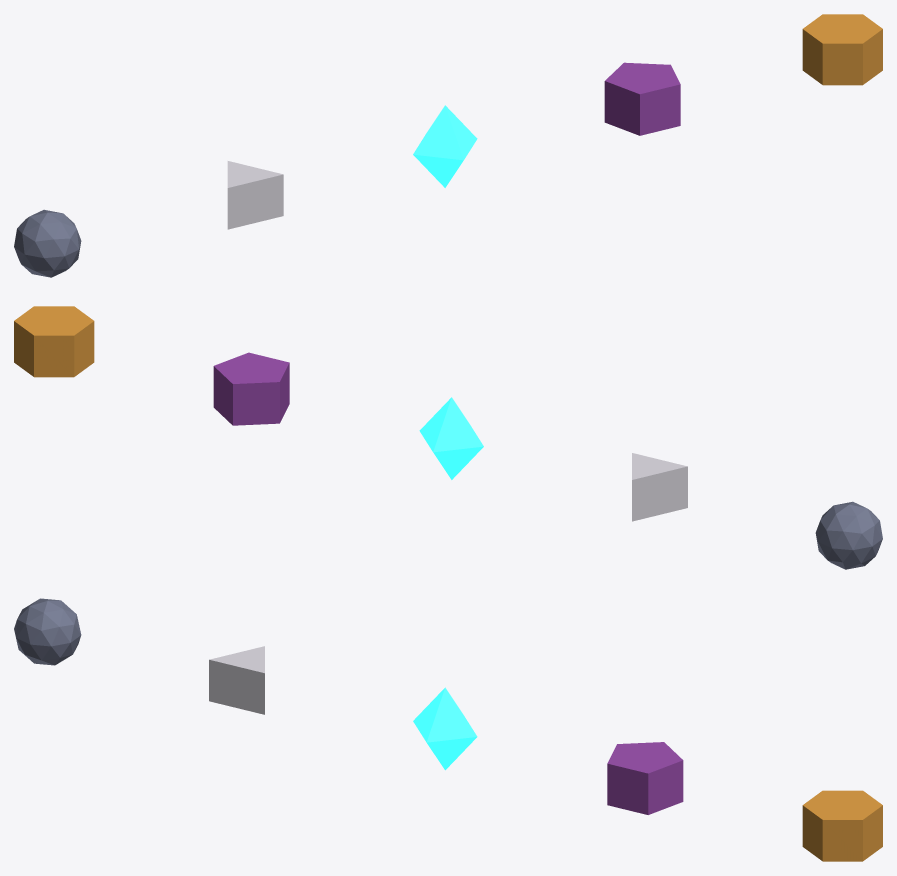
File: equipment-tier-gems.glb
3 views of the same model, one above another, from view 1: azimuth 30°, elevation 25°; view 2: azimuth 150°, elevation 25°; view 3: azimuth 330°, elevation 25° (orthographic).
Visible parts, largest first — view 1: gem-t5-court-sealed, gem-t4-abyss-tempered, gem-t1-echo-bound, gem-t2-umbral-etched, gem-t3-void-forged-top, gem-t3-void-forged-bottom; view 2: gem-t5-court-sealed, gem-t4-abyss-tempered, gem-t1-echo-bound, gem-t2-umbral-etched, gem-t3-void-forged-top, gem-t3-void-forged-bottom; view 3: gem-t5-court-sealed, gem-t4-abyss-tempered, gem-t1-echo-bound, gem-t2-umbral-etched, gem-t3-void-forged-top, gem-t3-void-forged-bottom.
Part boxes in pixels (x1=…): gem-t5-court-sealed: x1=802, y1=14, x2=882, y2=85; gem-t4-abyss-tempered: x1=604, y1=62, x2=680, y2=135; gem-t1-echo-bound: x1=14, y1=209, x2=81, y2=277; gem-t2-umbral-etched: x1=227, y1=161, x2=283, y2=229; gem-t3-void-forged-top: x1=413, y1=105, x2=477, y2=160; gem-t3-void-forged-bottom: x1=413, y1=154, x2=463, y2=187; gem-t5-court-sealed: x1=14, y1=306, x2=94, y2=377; gem-t4-abyss-tempered: x1=213, y1=352, x2=289, y2=425; gem-t1-echo-bound: x1=815, y1=501, x2=882, y2=569; gem-t2-umbral-etched: x1=632, y1=453, x2=687, y2=521; gem-t3-void-forged-top: x1=419, y1=397, x2=483, y2=452; gem-t3-void-forged-bottom: x1=433, y1=446, x2=483, y2=479; gem-t5-court-sealed: x1=802, y1=790, x2=882, y2=861; gem-t4-abyss-tempered: x1=607, y1=742, x2=683, y2=814; gem-t1-echo-bound: x1=14, y1=598, x2=81, y2=665; gem-t2-umbral-etched: x1=209, y1=646, x2=264, y2=714; gem-t3-void-forged-top: x1=413, y1=687, x2=477, y2=742; gem-t3-void-forged-bottom: x1=427, y1=737, x2=476, y2=770.
Size of the model in its own units: 3.44 by 0.32 by 0.28.
